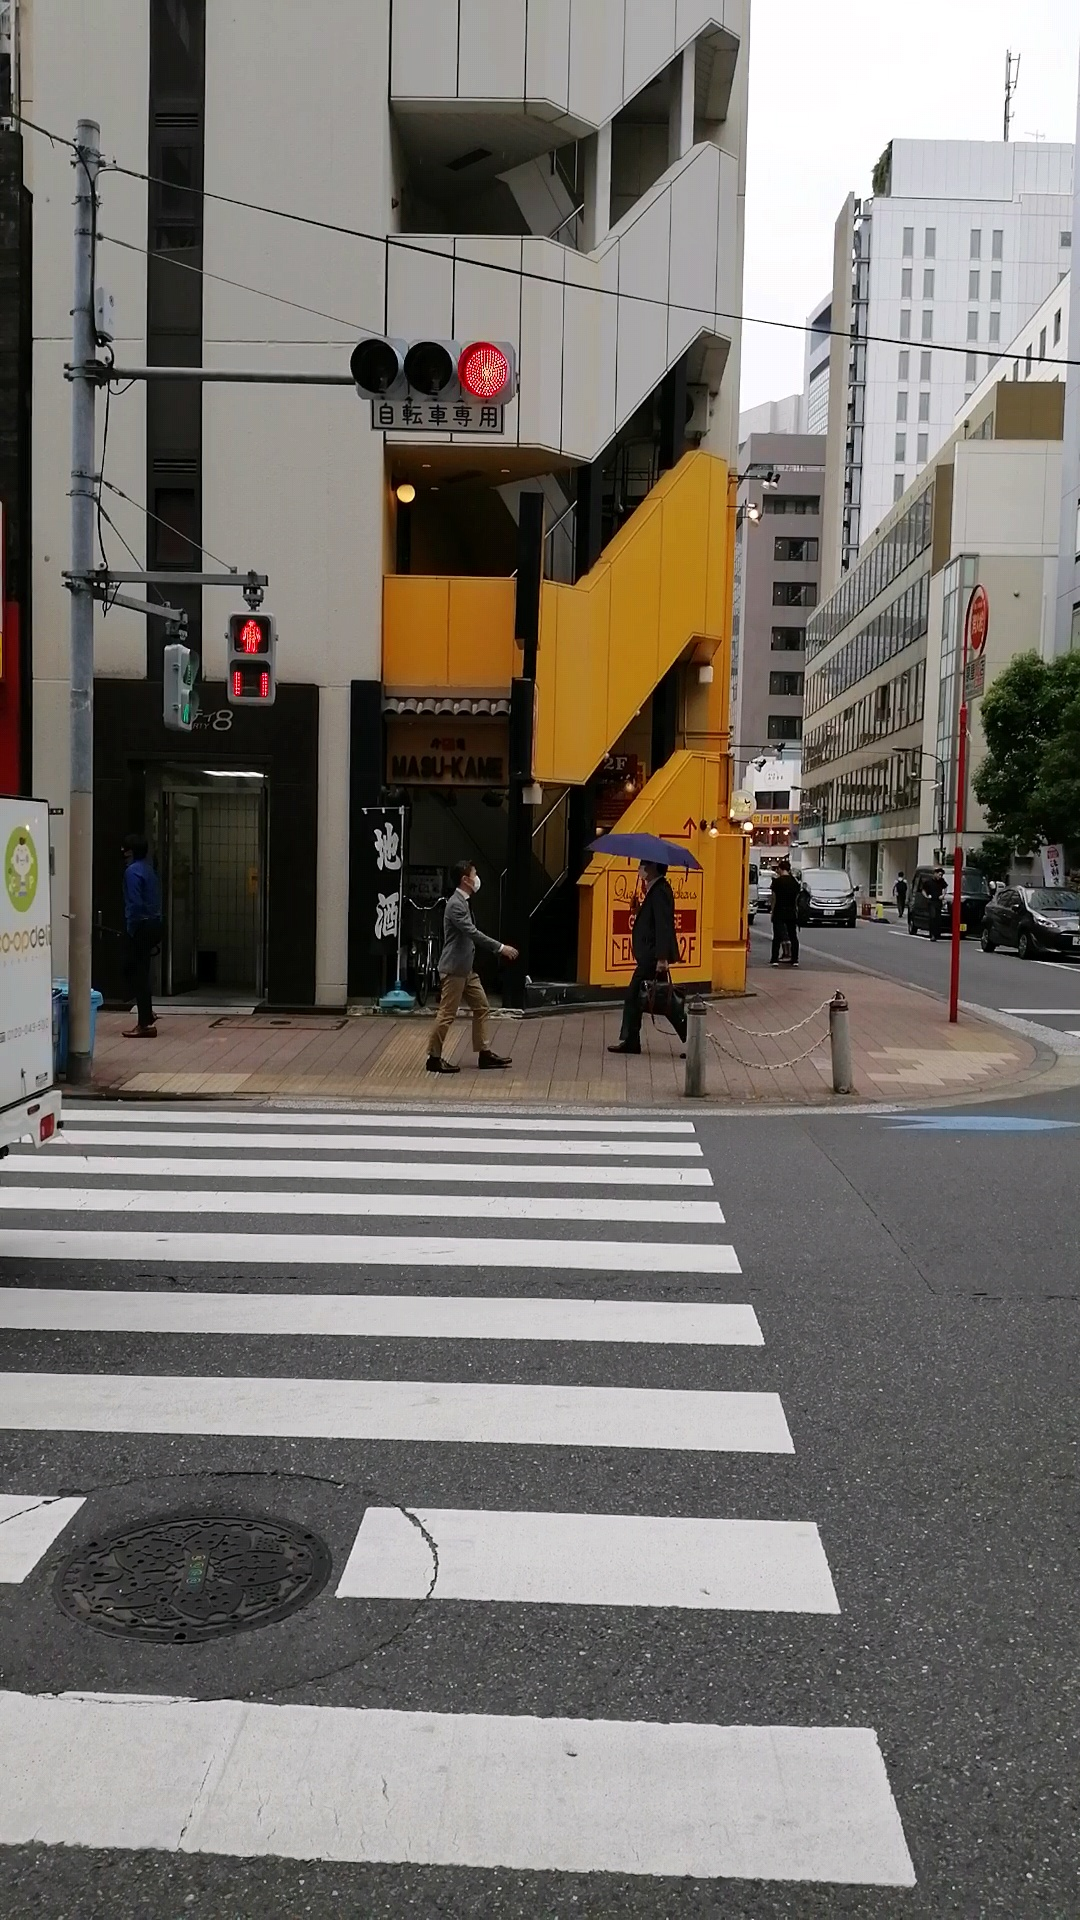red: (225, 615, 274, 707)
